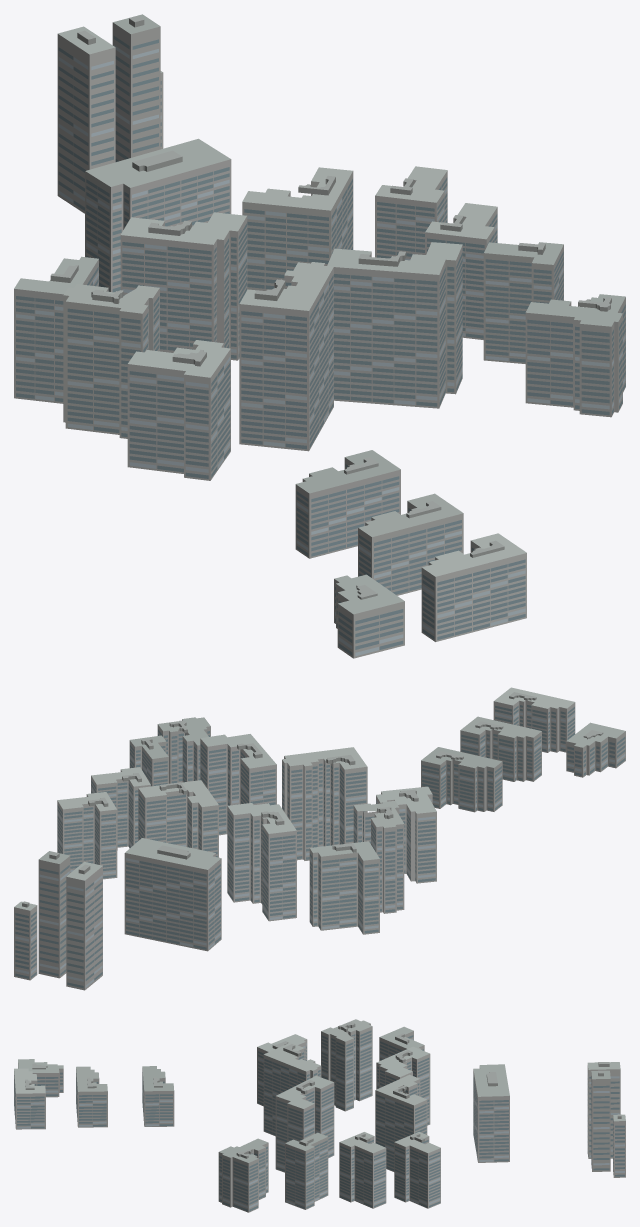
The model's file is apt-a10025003.glb.
The picture shows the model from 3 angles, top to bottom: view 1: azimuth 30°, elevation 25°; view 2: azimuth 150°, elevation 25°; view 3: azimuth 270°, elevation 25°; orthographic projection. The views are drawn at different scales.
Parts seen in each view (by area): view 1: apt-a10025003; view 2: apt-a10025003; view 3: apt-a10025003.
Part boxes in pixels (x1=…): apt-a10025003: x1=14, y1=14, x2=625, y2=658; apt-a10025003: x1=14, y1=687, x2=625, y2=990; apt-a10025003: x1=14, y1=1019, x2=625, y2=1212.
Bounding box in the file's own units: 229 × 79 × 458.
